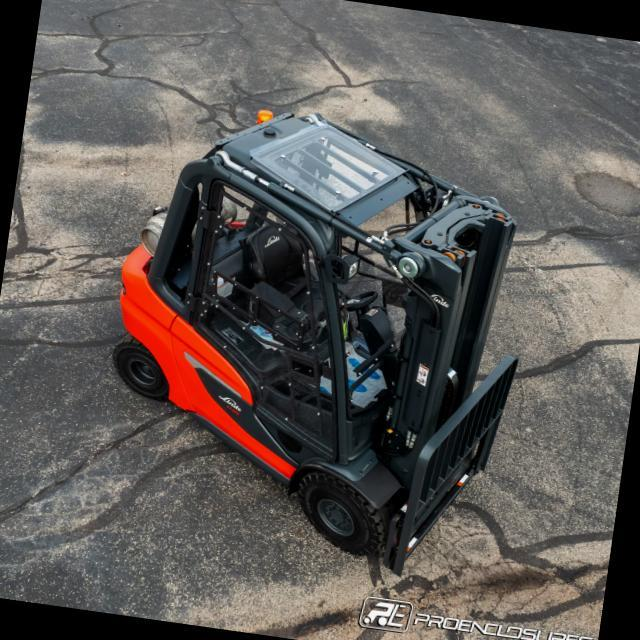forklift: (74, 76, 558, 594)
